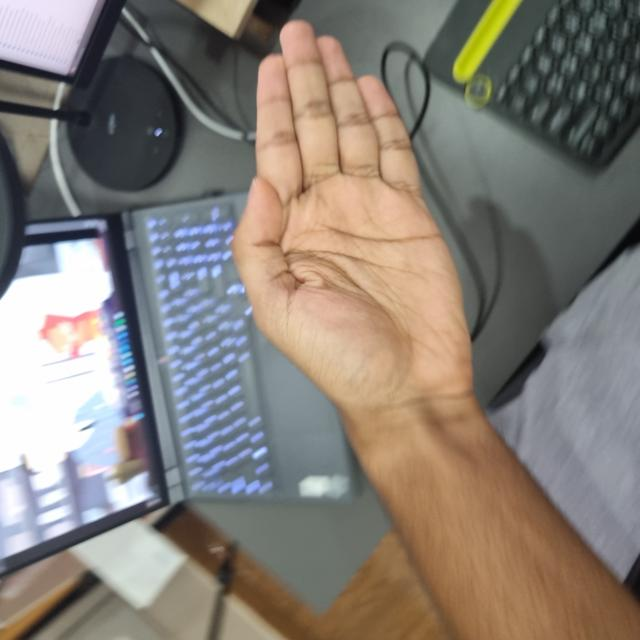Paper: (213, 238, 608, 476)
